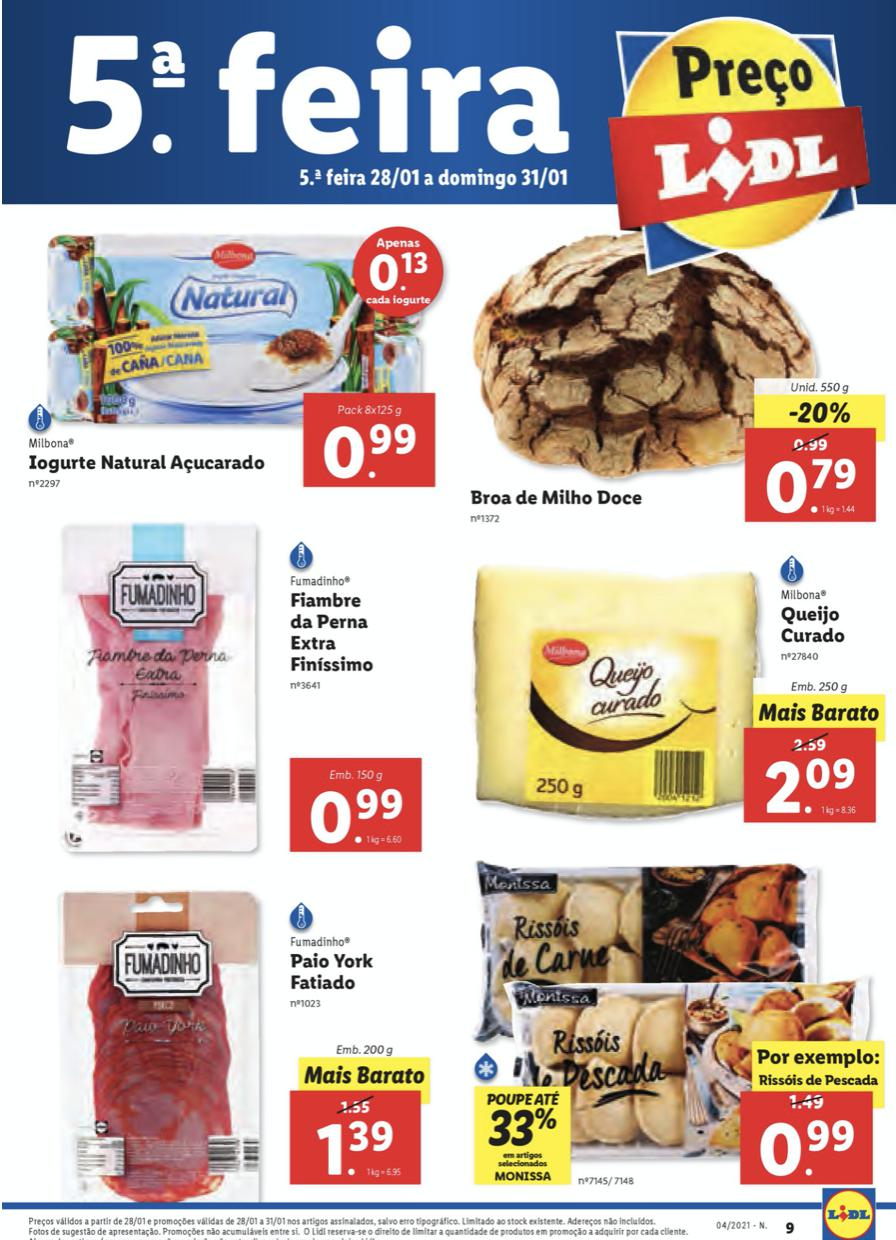name: (282, 584, 383, 675), (25, 448, 271, 475), (466, 485, 645, 513), (285, 950, 380, 996), (772, 602, 849, 650)
price: (756, 751, 859, 815), (762, 453, 866, 516), (763, 1115, 859, 1182), (312, 782, 409, 847), (325, 418, 419, 481), (312, 1119, 403, 1182)
product: (428, 844, 888, 1205), (20, 518, 442, 864), (19, 210, 462, 508), (462, 242, 891, 542), (29, 884, 428, 1205), (460, 542, 891, 838)
promotion: (483, 1107, 560, 1155), (785, 396, 857, 425)
